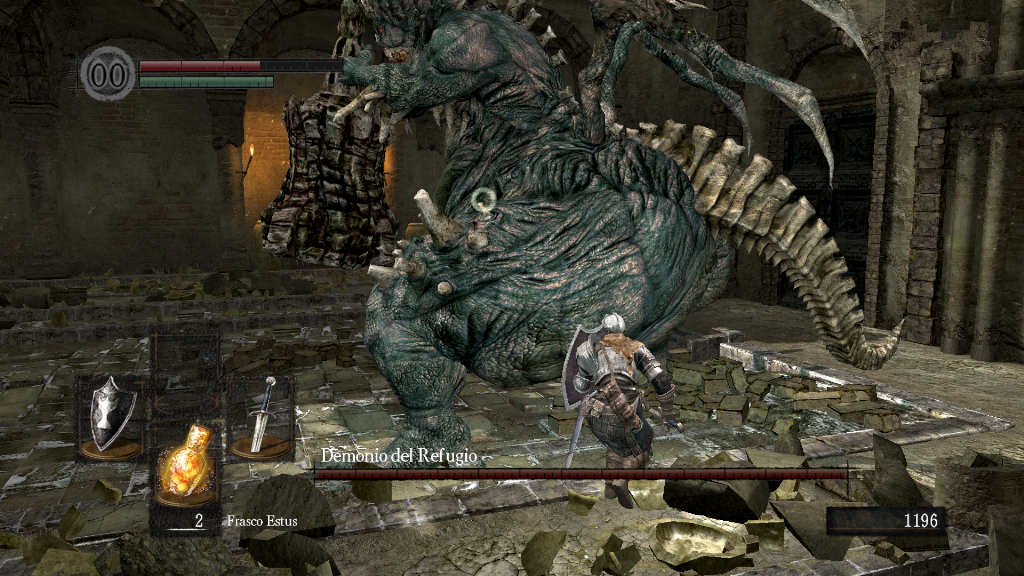asylumDemon: (259, 1, 908, 467)
bossHP: (314, 469, 847, 479)
health: (138, 58, 343, 71)
humanity: (80, 45, 136, 102)
player: (561, 311, 676, 512)
souls: (825, 506, 945, 536)
stamina: (138, 74, 274, 88)
